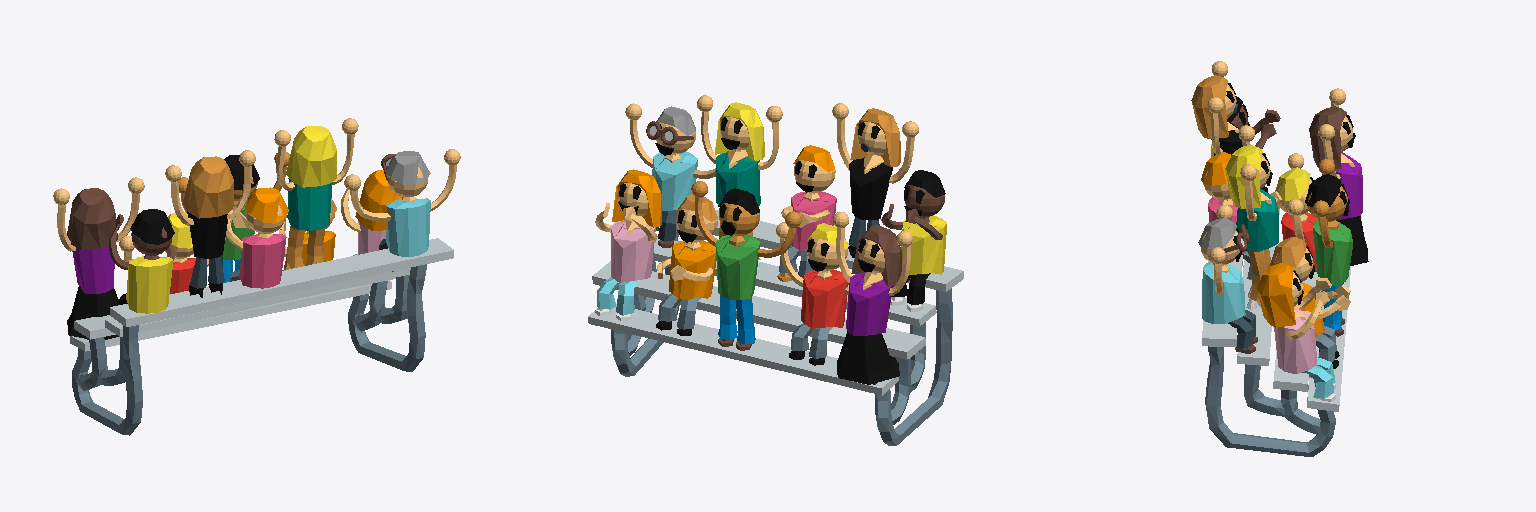
3 renders of one model, left to right at view 1: azimuth 30°, elevation 25°; view 2: azimuth 150°, elevation 25°; view 3: azimuth 270°, elevation 25°, orthographic.
Visible parts, largest first — view 1: group[number redacted], group[number redacted], group[number redacted], group[number redacted], group[number redacted], group[number redacted], group[number redacted], group[number redacted], group[number redacted], group[number redacted], group[number redacted]; view 2: group[number redacted], group[number redacted], group[number redacted], group[number redacted], group[number redacted], group[number redacted], group[number redacted], group[number redacted], group[number redacted], group[number redacted], group[number redacted], group[number redacted]; view 3: group[number redacted], group[number redacted], group[number redacted], group[number redacted], group[number redacted], group[number redacted], group[number redacted], group[number redacted], group[number redacted], group[number redacted], group[number redacted].
Boxes of the visible parts, <box> form: group[number redacted]: <box>70,238,453,435</box>; group[number redacted]: <box>274,118,358,270</box>; group[number redacted]: <box>53,177,144,339</box>; group[number redacted]: <box>165,150,255,297</box>; group[number redacted]: <box>344,149,460,271</box>; group[number redacted]: <box>109,209,174,313</box>; group[number redacted]: <box>226,187,288,288</box>; group[number redacted]: <box>341,170,401,255</box>; group[number redacted]: <box>178,151,289,282</box>; group[number redacted]: <box>119,212,231,293</box>; group[number redacted]: <box>279,198,336,270</box>; group[number redacted]: <box>588,210,963,445</box>; group[number redacted]: <box>833,212,912,384</box>; group[number redacted]: <box>691,181,801,350</box>; group[number redacted]: <box>595,169,661,321</box>; group[number redacted]: <box>832,103,918,257</box>; group[number redacted]: <box>776,222,848,365</box>; group[number redacted]: <box>697,95,782,259</box>; group[number redacted]: <box>656,194,717,335</box>; group[number redacted]: <box>881,170,946,311</box>; group[number redacted]: <box>625,103,715,247</box>; group[number redacted]: <box>777,145,836,281</box>; group[number redacted]: <box>646,121,693,145</box>; group[number redacted]: <box>1202,209,1350,456</box>; group[number redacted]: <box>1257,263,1335,401</box>; group[number redacted]: <box>1225,125,1278,309</box>; group[number redacted]: <box>1198,205,1257,353</box>; group[number redacted]: <box>1305,159,1352,336</box>; group[number redacted]: <box>1309,88,1368,265</box>; group[number redacted]: <box>1191,61,1242,155</box>; group[number redacted]: <box>1270,237,1350,368</box>; group[number redacted]: <box>1275,153,1343,291</box>; group[number redacted]: <box>1201,152,1281,279</box>; group[number redacted]: <box>1211,96,1280,192</box>.
Size of the model in its own units: 1.07 by 0.8298 by 0.4766.